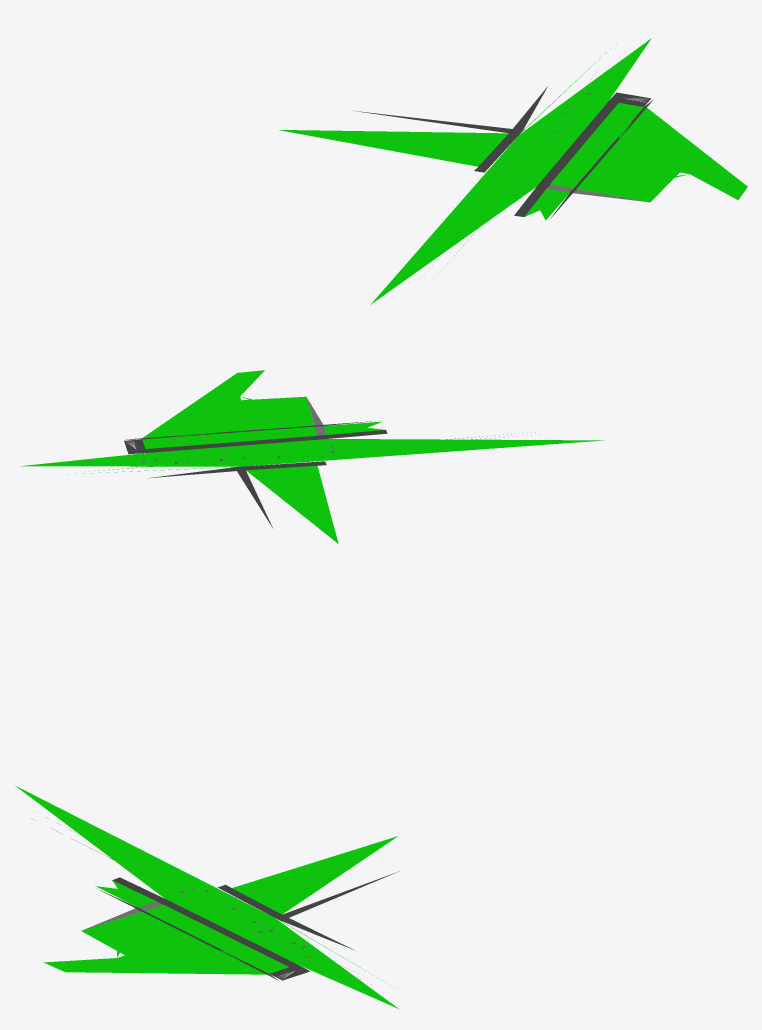
3 views of the same model, one above another, from view 1: azimuth 30°, elevation 25°; view 2: azimuth 150°, elevation 25°; view 3: azimuth 270°, elevation 25° (orthographic). The views are drawn at different scales.
Size of the model in its own units: 253 by 0.201 by 252.
